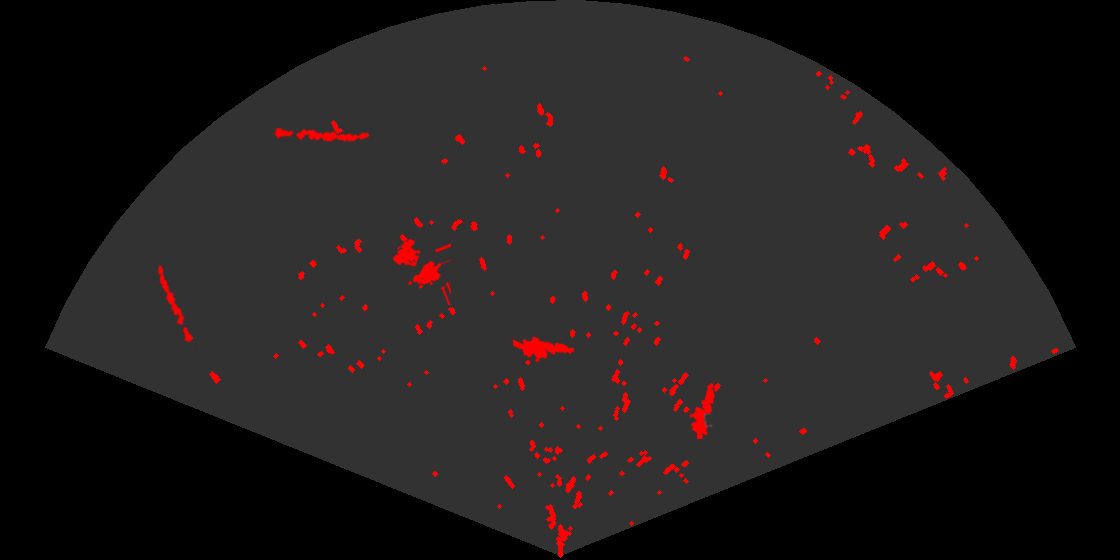cage: (391, 237, 451, 305)
chain: (156, 263, 196, 349), (272, 126, 371, 144)
frogman: (513, 335, 576, 364), (687, 380, 716, 439)
